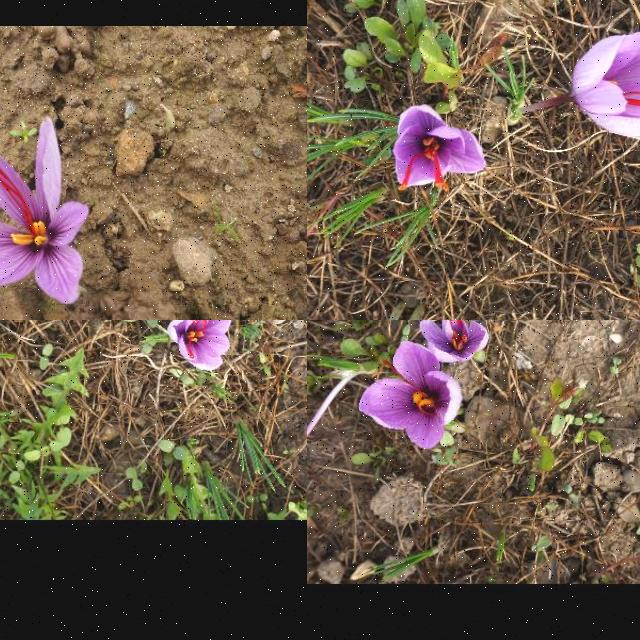flower: (0, 116, 90, 304), (360, 342, 464, 450), (395, 105, 487, 192), (571, 32, 640, 141), (168, 320, 232, 372), (419, 320, 491, 363)
